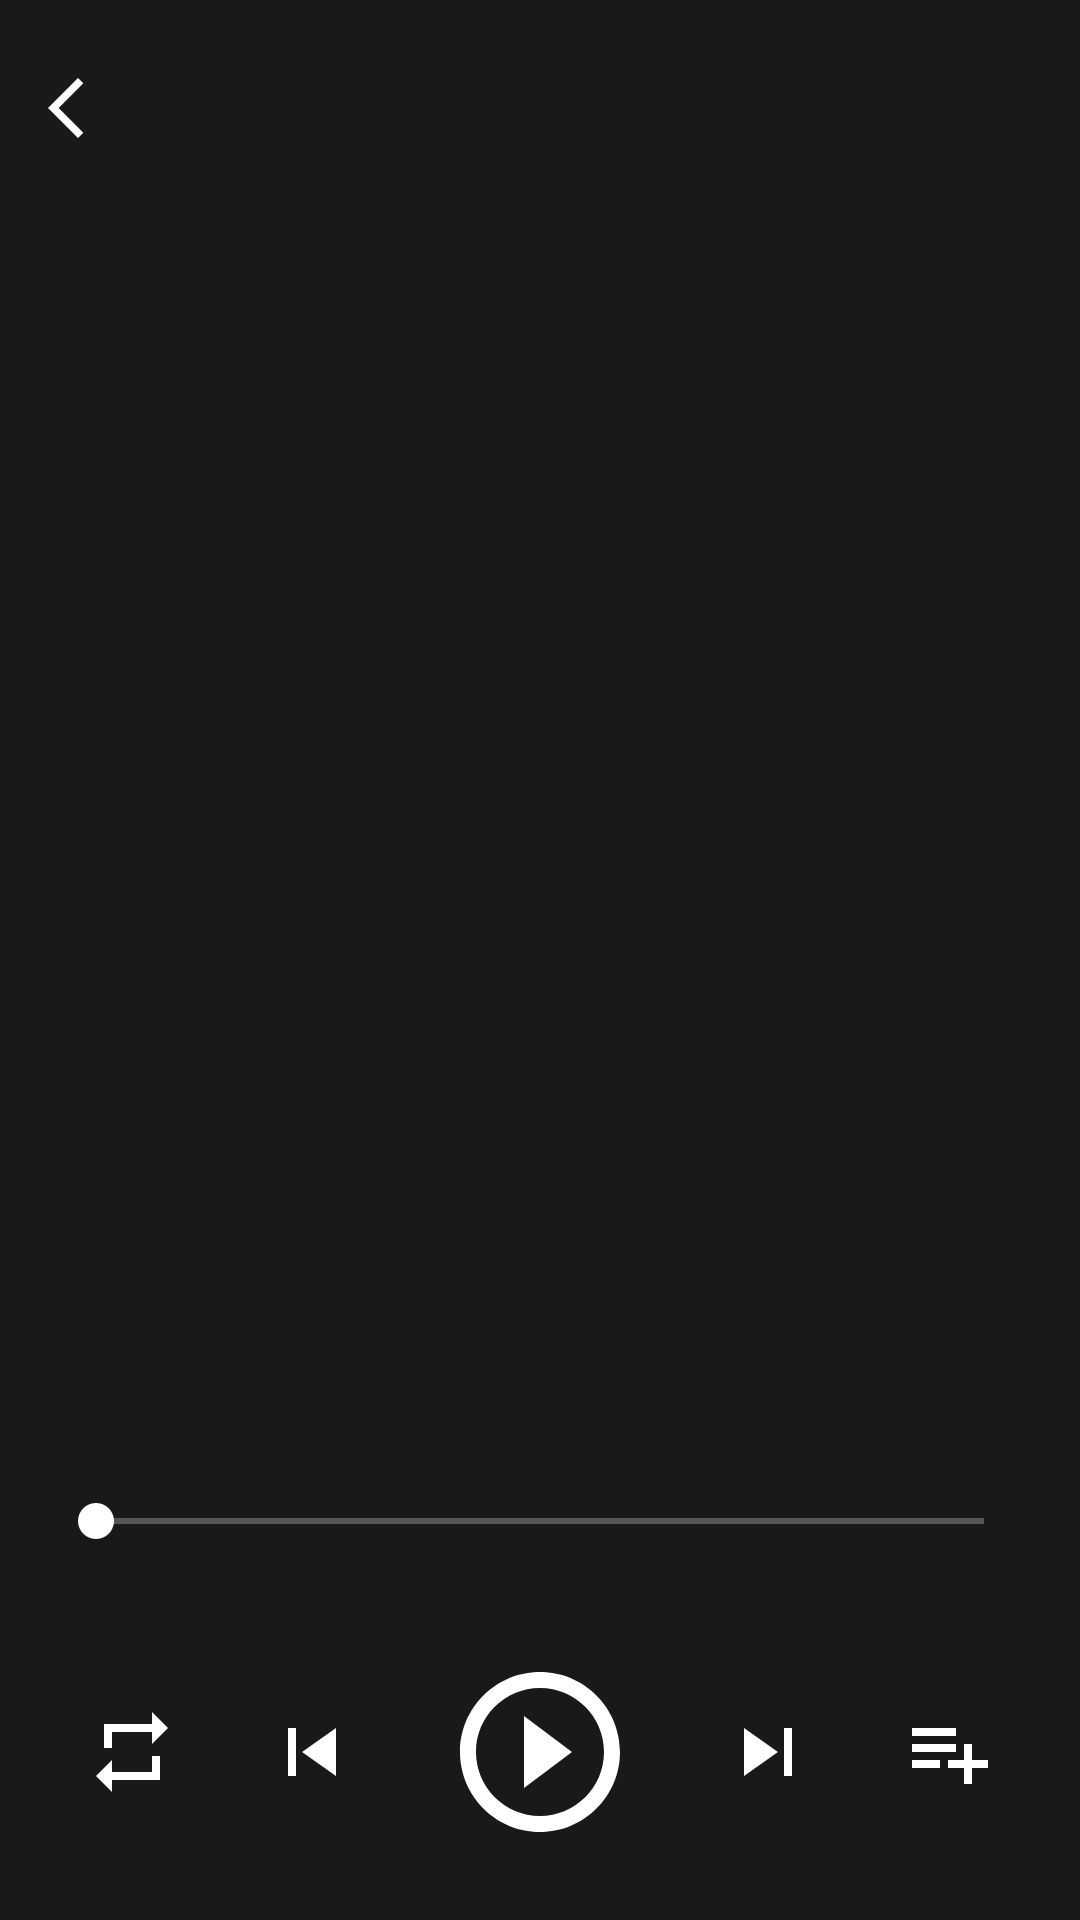

Icon click points for this 1080x1920 phone screenshot, format (x,y):
back: (65,108)
loop all: (132,1752)
next: (768,1752)
play circle: (540,1752)
playlist add: (950,1756)
prev: (312,1752)
